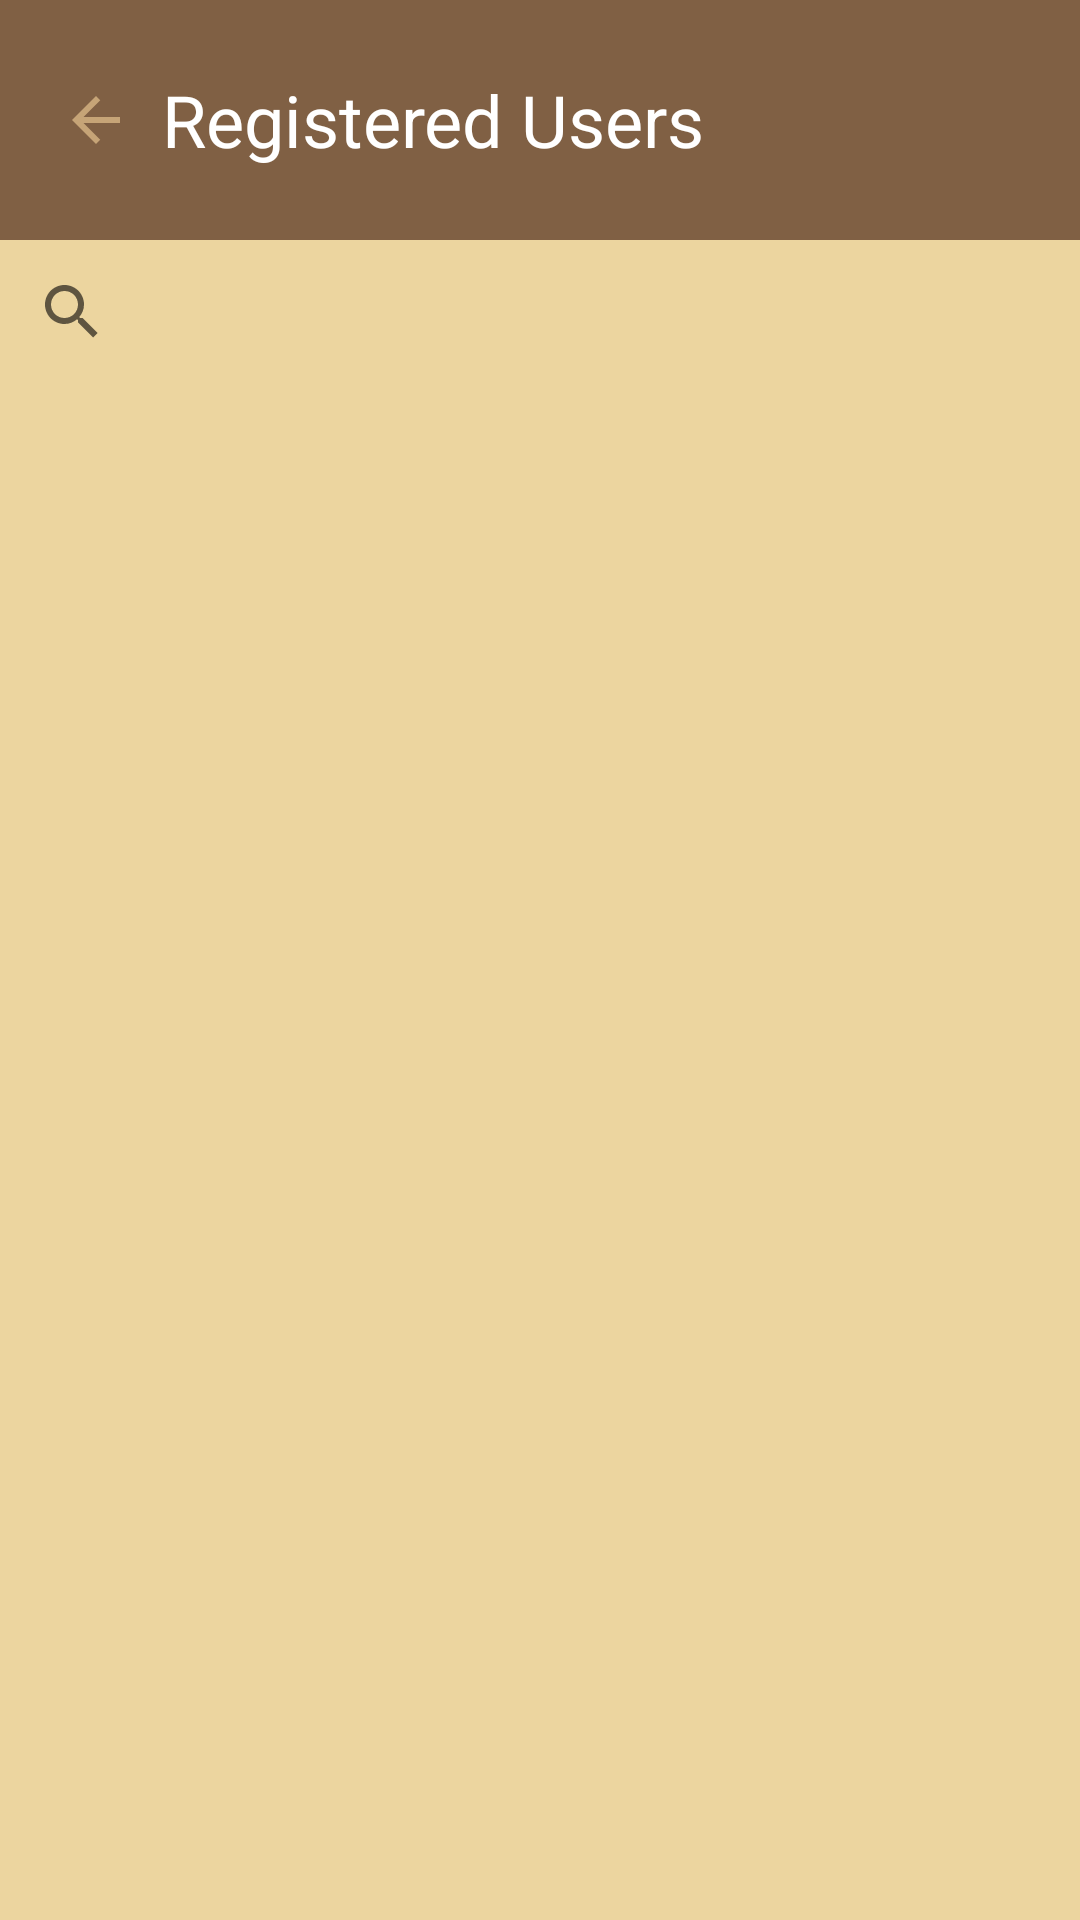

Point at icon controls on the screen. Image size 1080px x 1920px, points as (x,y).
Back: (96,120)
